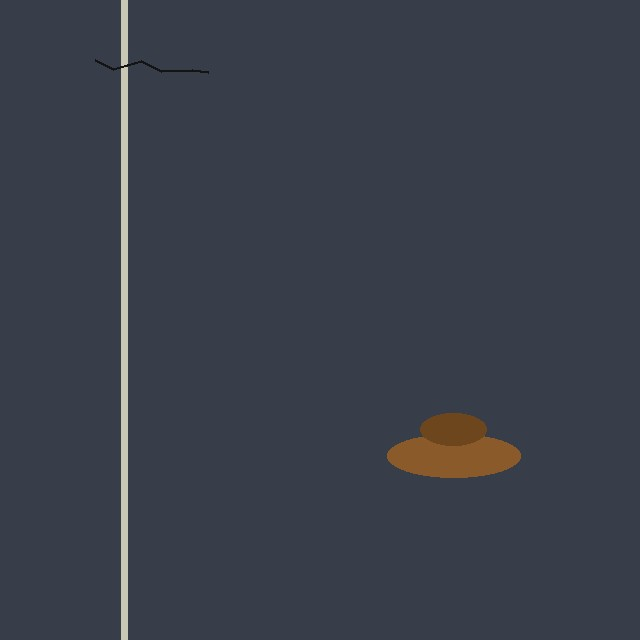animal: (387, 413, 520, 477)
crack: (95, 25, 206, 96)
